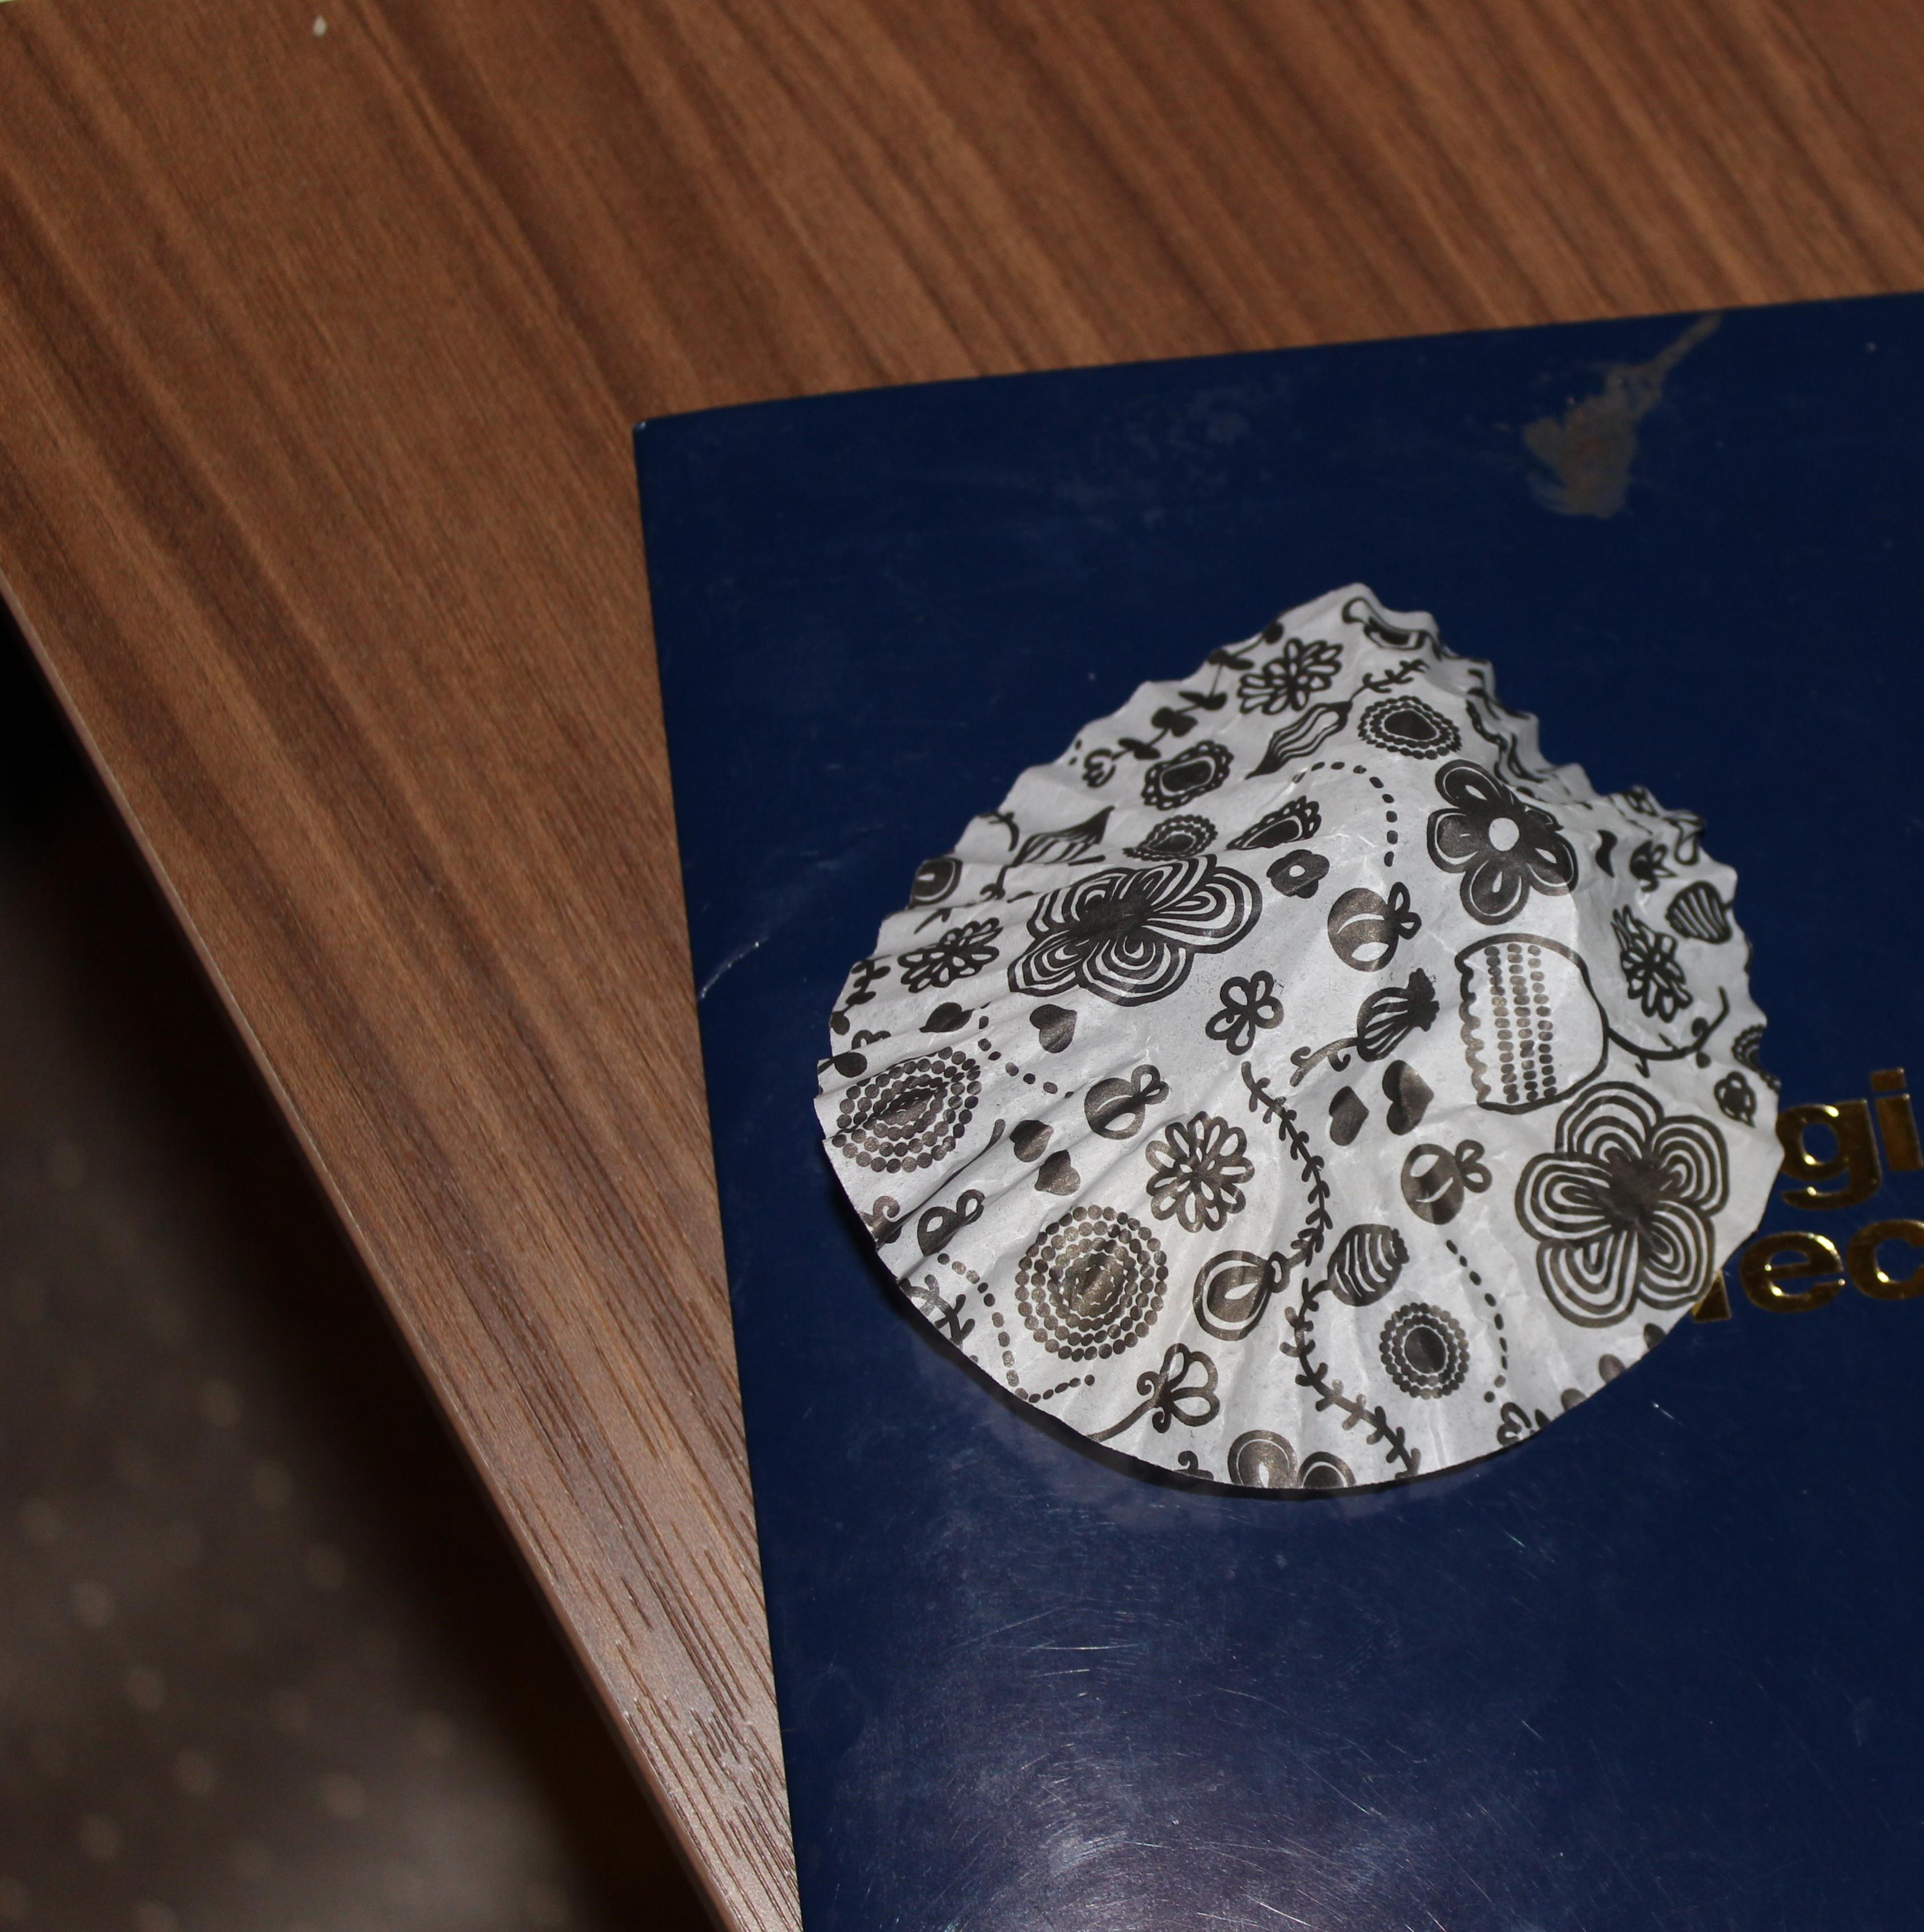cupcakePaper: (782, 553, 1813, 1541)
